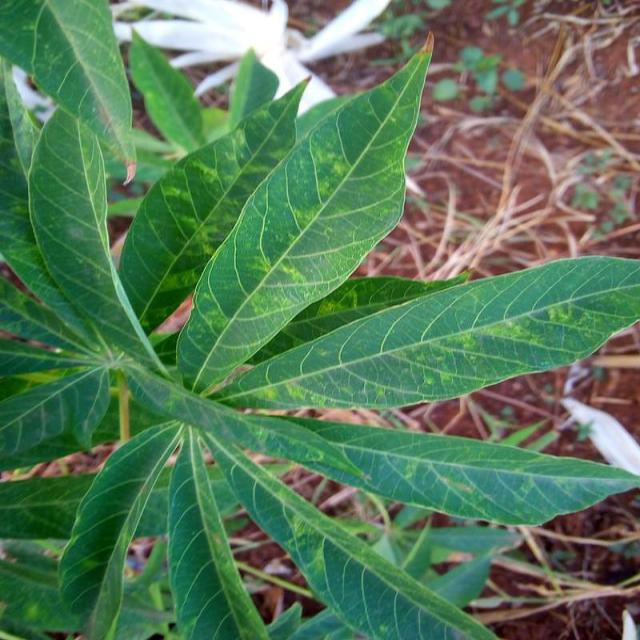Mosaico: (202, 185, 547, 586), (0, 99, 276, 415)
